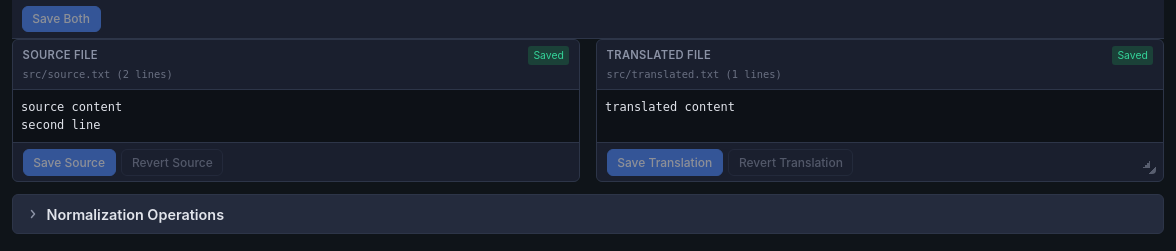
it: PairFileViewPanel › save handlers › shows Saving... status while save is in progress
This screenshot has width=1176, height=251.
Replace the text in the text box below "src/source.txt" with "modified": [296, 116] box [13,90,579,142]
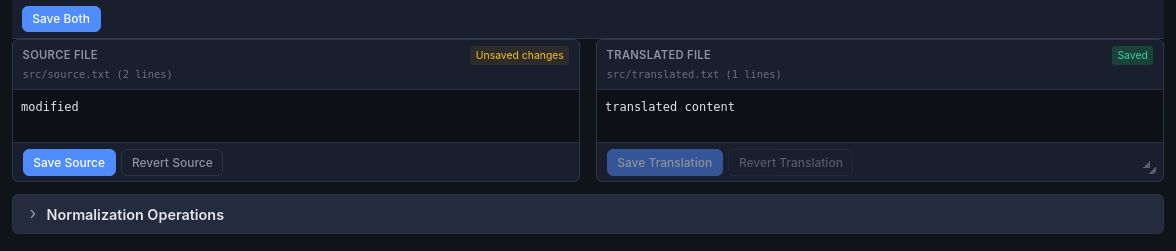
Click the button "Save Source": [69, 162] box [23,149,116,176]
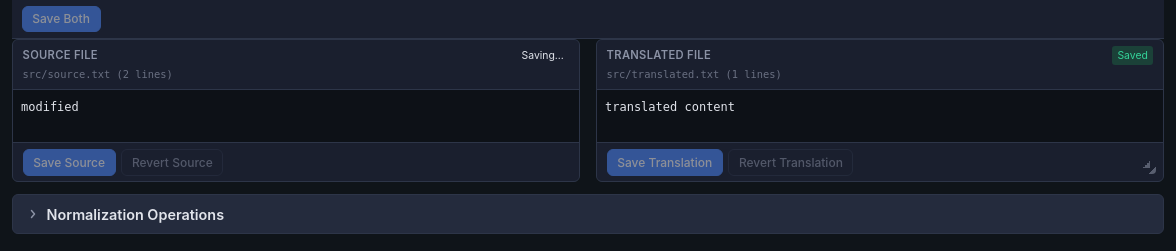
Check: the text "Saving..." is shown, box [522,49,564,62]
